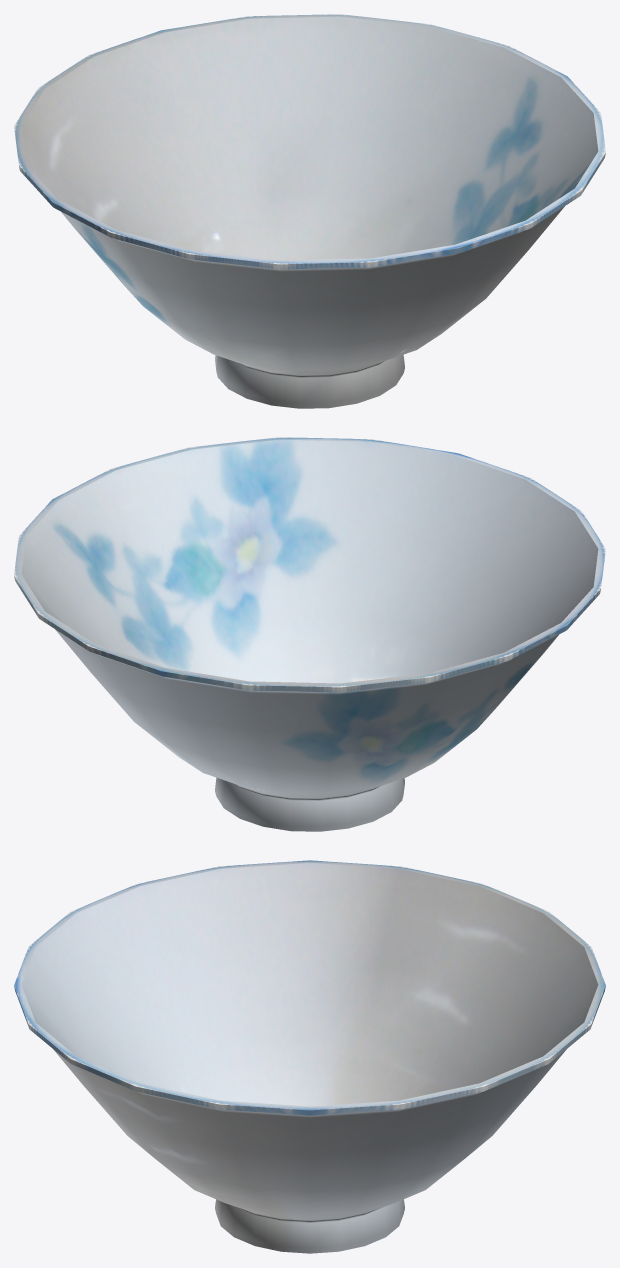
File: ricebowl_B_c01.fbx
3 views of the same model, one above another, from view 1: azimuth 30°, elevation 25°; view 2: azimuth 150°, elevation 25°; view 3: azimuth 270°, elevation 25° (orthographic).
Visible parts, largest first — view 1: ricebowl_B_c01; view 2: ricebowl_B_c01; view 3: ricebowl_B_c01.
Part boxes in pixels (x1=…): ricebowl_B_c01: x1=14, y1=14, x2=605, y2=408; ricebowl_B_c01: x1=14, y1=437, x2=605, y2=831; ricebowl_B_c01: x1=14, y1=860, x2=605, y2=1253.
Size of the model in its own units: 11.39 by 4.87 by 11.39.
Materials: 1 (1 with a texture image).
